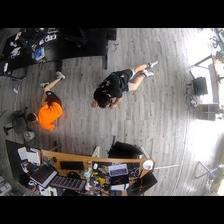fall: (91, 59, 163, 110), (25, 71, 70, 132)
